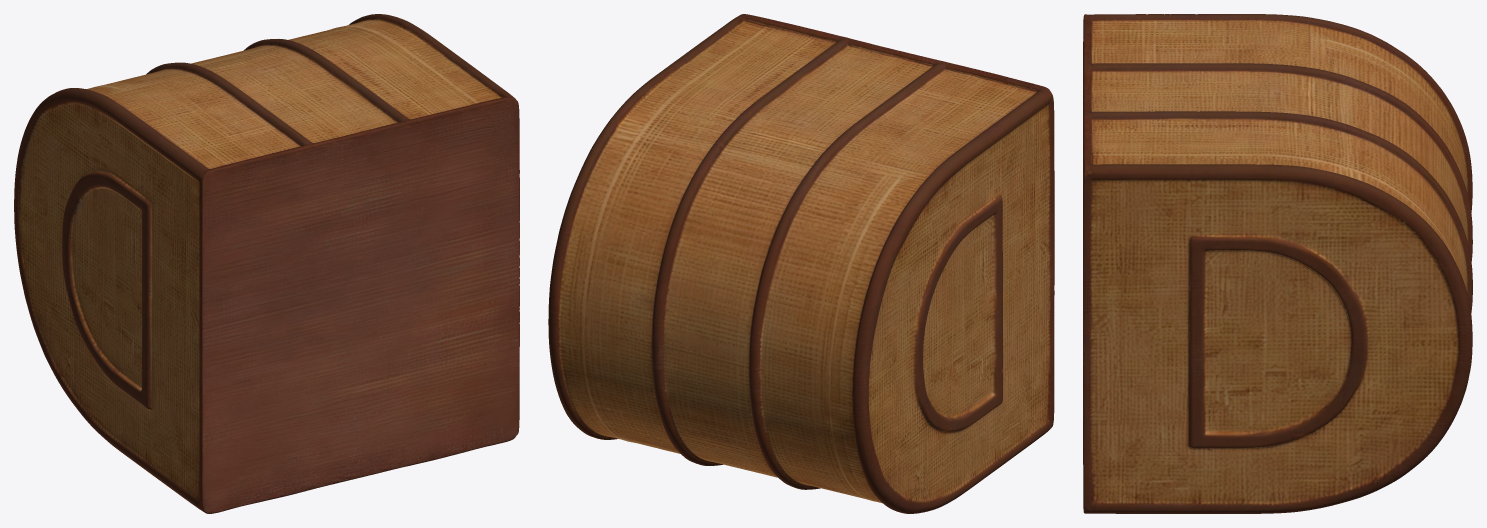
Rendered from d-rug-opt.glb.
3 views of the same model, side by side, from view 1: azimuth 30°, elevation 25°; view 2: azimuth 150°, elevation 25°; view 3: azimuth 270°, elevation 25° (orthographic).
Parts seen in each view (by area): view 1: tripo_node_a2398810-d032-4cd8-875d-a8e0f24699c7; view 2: tripo_node_a2398810-d032-4cd8-875d-a8e0f24699c7; view 3: tripo_node_a2398810-d032-4cd8-875d-a8e0f24699c7.
Part boxes in pixels (bbox=[...]): tripo_node_a2398810-d032-4cd8-875d-a8e0f24699c7: bbox=[14, 14, 519, 513]; tripo_node_a2398810-d032-4cd8-875d-a8e0f24699c7: bbox=[548, 14, 1054, 513]; tripo_node_a2398810-d032-4cd8-875d-a8e0f24699c7: bbox=[1083, 14, 1472, 513].
Bounding box in the file's own units: 0.9207 × 0.9459 × 0.9504.
Materials: 1 (1 with a texture image).
